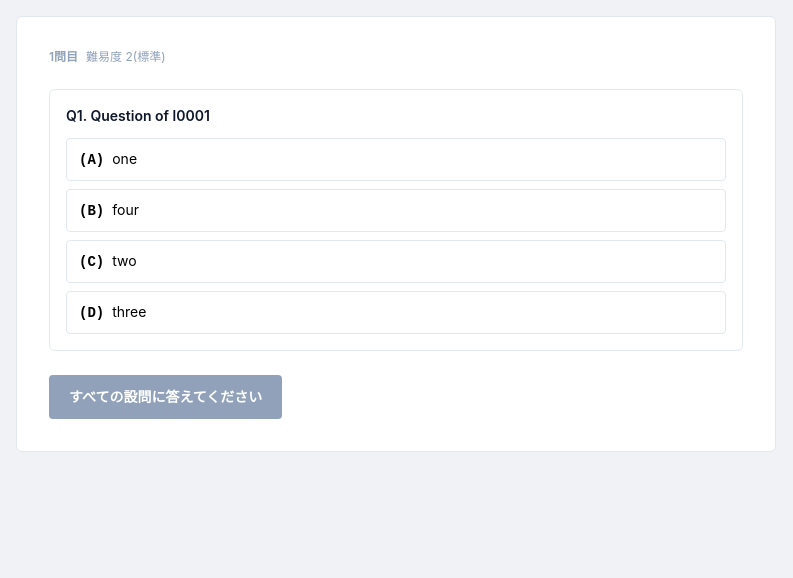
Test: セット問題: リスニングの台本 › 採点結果は台本を待たずに出し、台本は遅れて届いたら付ける
Expected: the text "Q1. Question of l0001" is shown, x1=66 y1=107 x2=210 y2=124
Step 1. Click the button "(A)one" → x=83, y=160, box x1=66 y1=138 x2=726 y2=181
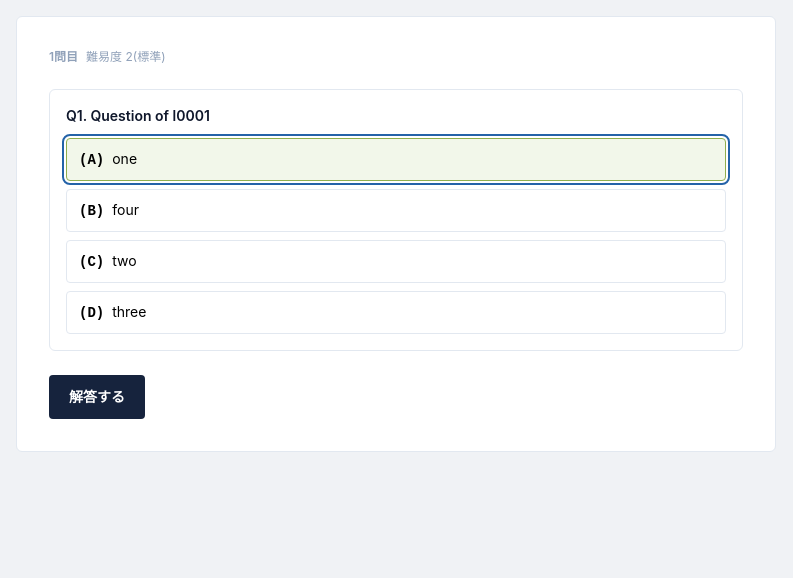
Step 2. Click the button "解答する" → x=97, y=397, box x1=49 y1=375 x2=145 y2=419
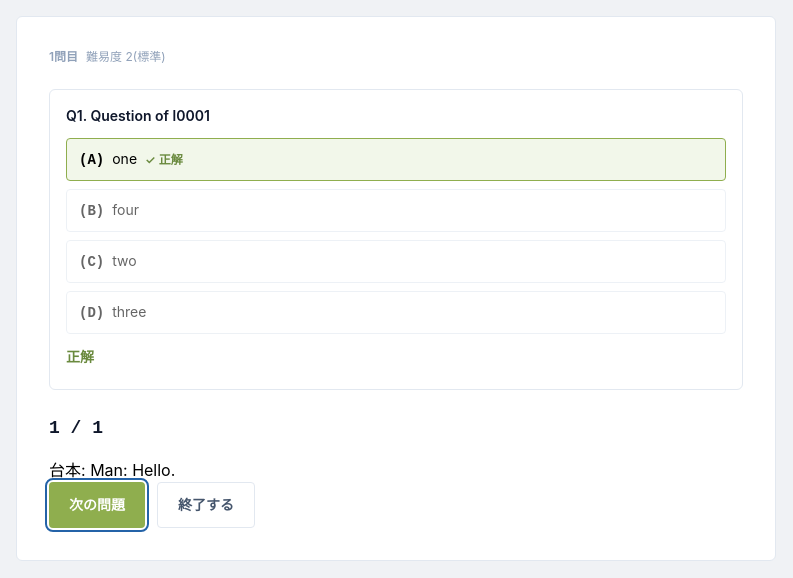
Expected: the text "1 / 1" is shown, x1=49 y1=418 x2=103 y2=438
Expected: the text "台本: Man: Hello." is shown, x1=49 y1=460 x2=175 y2=480
